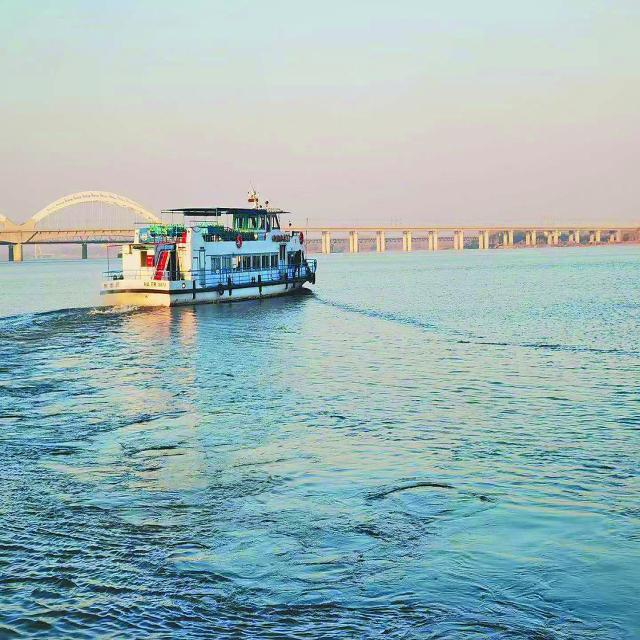houseboat: (100, 191, 322, 305)
